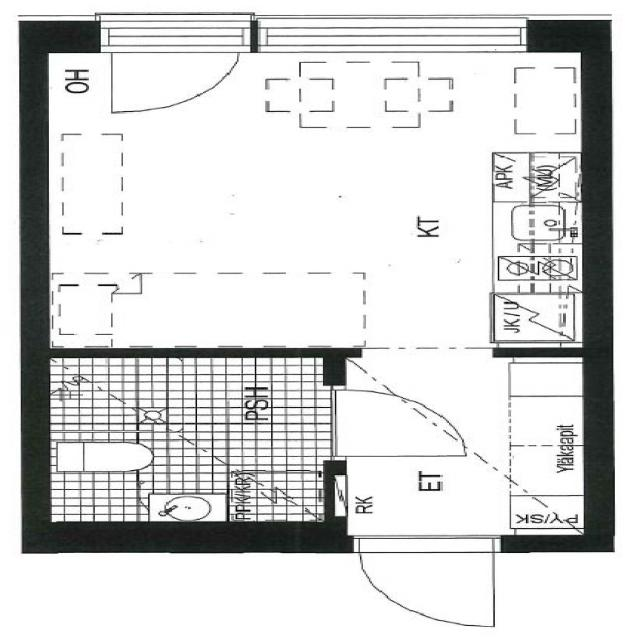door: (111, 20, 239, 123), (358, 534, 492, 627), (322, 390, 465, 456)
